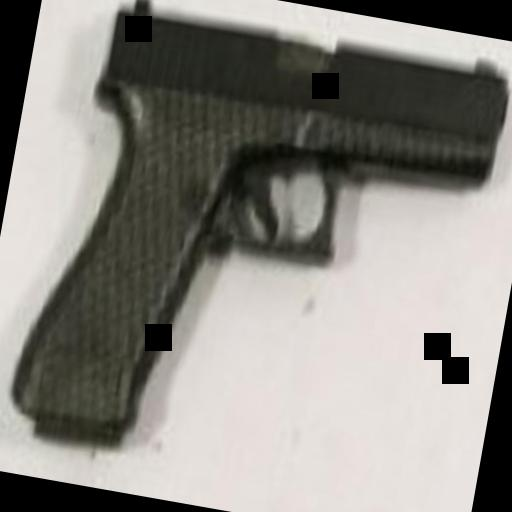Handgun: (1, 0, 512, 499)
